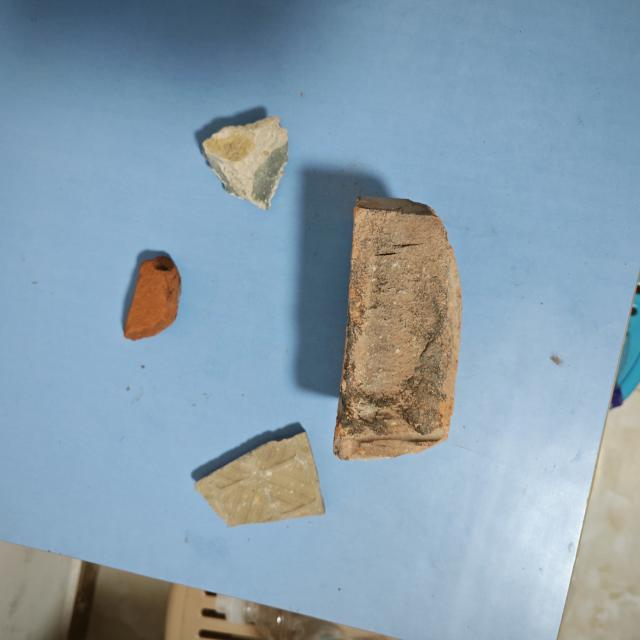-Other waste - brick-: (334, 193, 460, 465), (202, 117, 297, 209), (125, 255, 182, 341)
-Other waste - ceramic-: (194, 427, 327, 530)
